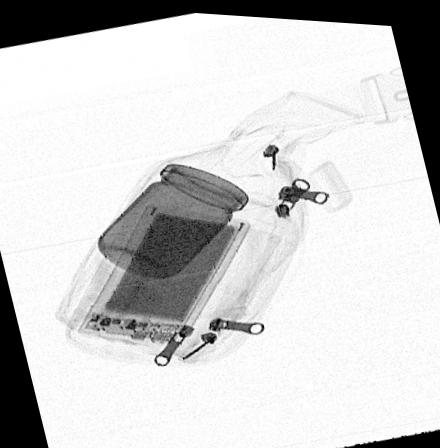Powerbank: (76, 203, 248, 346)
